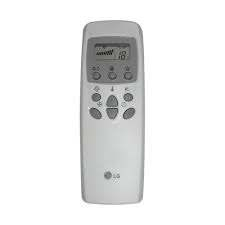remote control: (85, 23, 146, 200)
